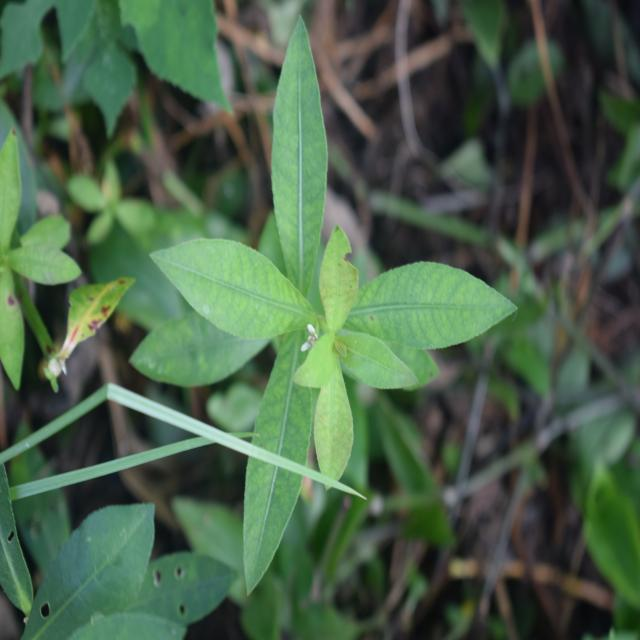Alligatorweed: (166, 64, 470, 561)
